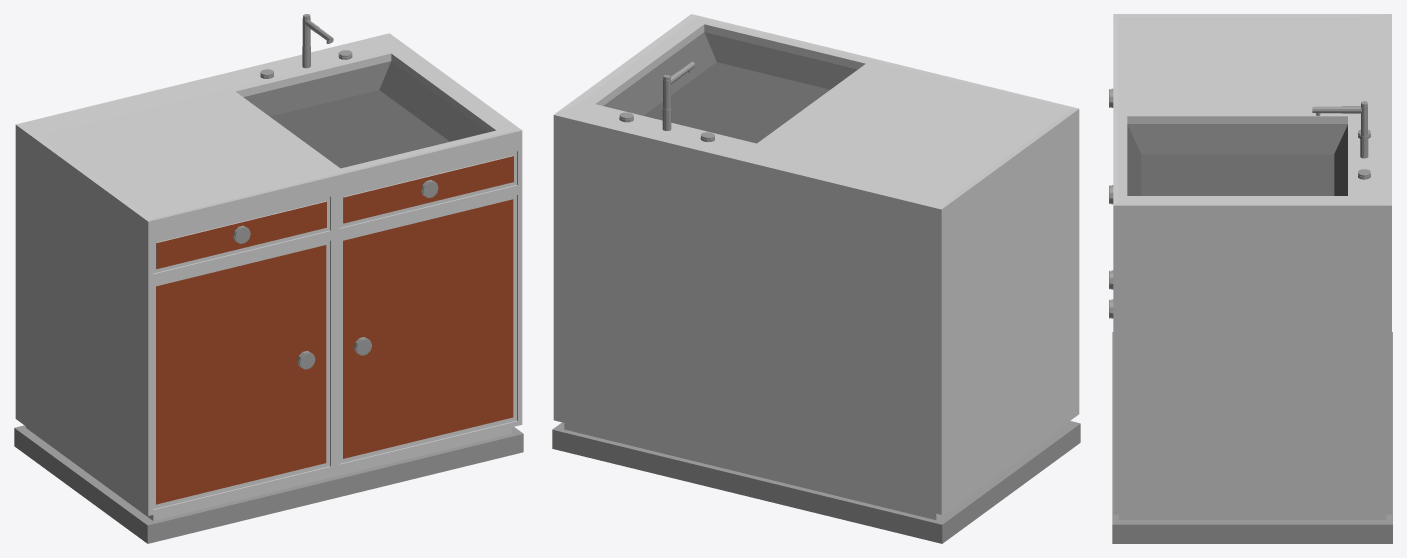
Rendered from Kitchen_Sink.fbx.
3 views of the same model, side by side, from view 1: azimuth 30°, elevation 25°; view 2: azimuth 150°, elevation 25°; view 3: azimuth 270°, elevation 25° (orthographic). The views are drawn at different scales.
Visible parts, largest first — view 1: Kitchen_Sink; view 2: Kitchen_Sink; view 3: Kitchen_Sink.
Part boxes in pixels (<box>): Kitchen_Sink: <box>14,14,523,543</box>; Kitchen_Sink: <box>552,14,1080,543</box>; Kitchen_Sink: <box>1109,14,1392,543</box>.
Size of the model in its own units: 92.27 by 87.43 by 57.43.
